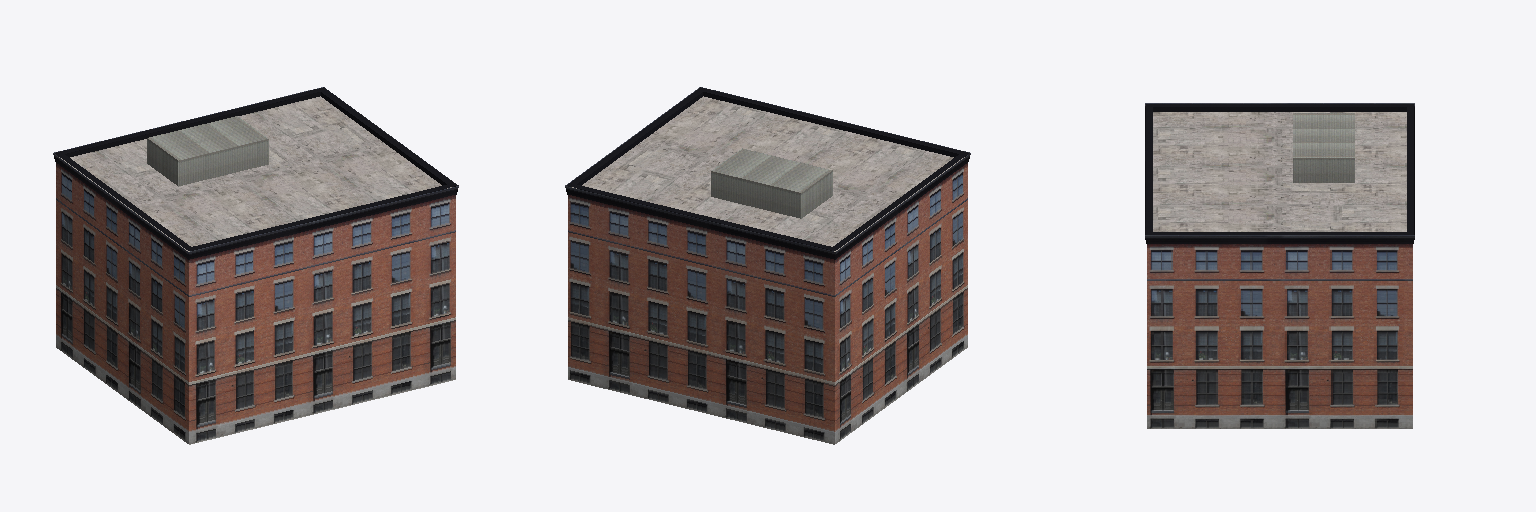
3 views of the same model, side by side, from view 1: azimuth 30°, elevation 25°; view 2: azimuth 150°, elevation 25°; view 3: azimuth 270°, elevation 25° (orthographic).
Parts seen in each view (by area): view 1: building_41; view 2: building_41; view 3: building_41.
Boxes of the visible parts, x1=… form: building_41: x1=53, y1=87, x2=458, y2=444; building_41: x1=565, y1=87, x2=970, y2=444; building_41: x1=1145, y1=103, x2=1414, y2=428.
Bounding box in the file's own units: 68.2 × 51.93 × 59.05.
Materials: 1 (1 with a texture image).